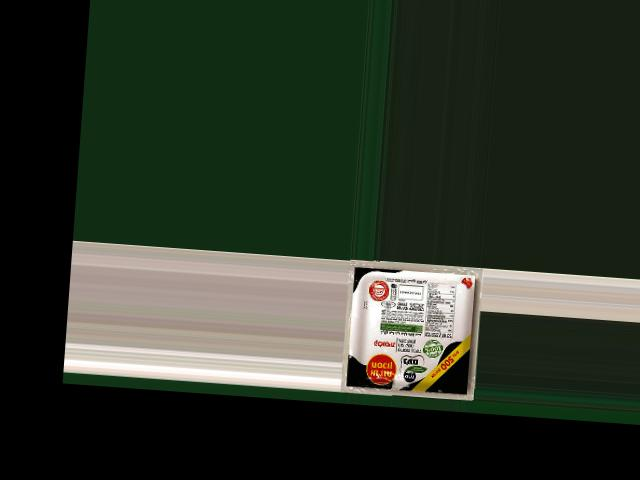cheese: (345, 270, 481, 392)
